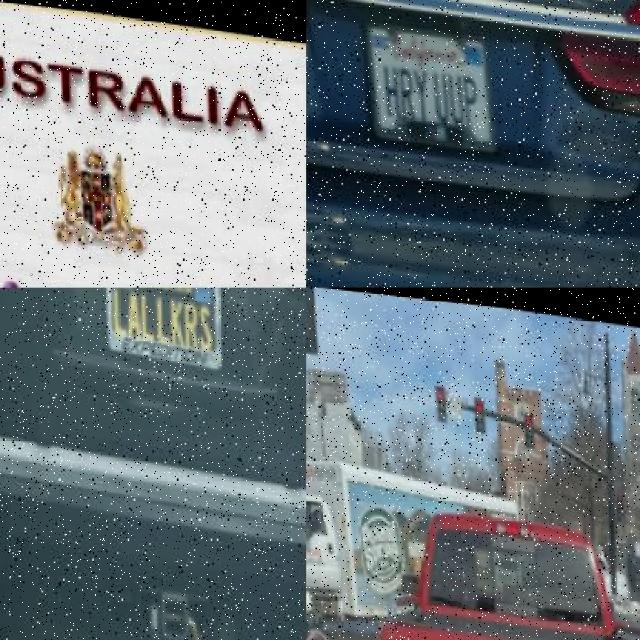licenseplate: (362, 20, 493, 145), (97, 288, 228, 366)
